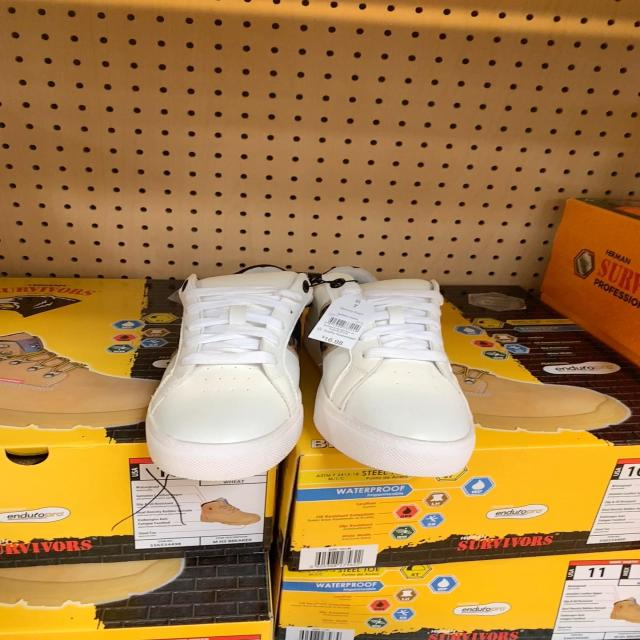shoe: (144, 269, 314, 485), (313, 273, 477, 479)
